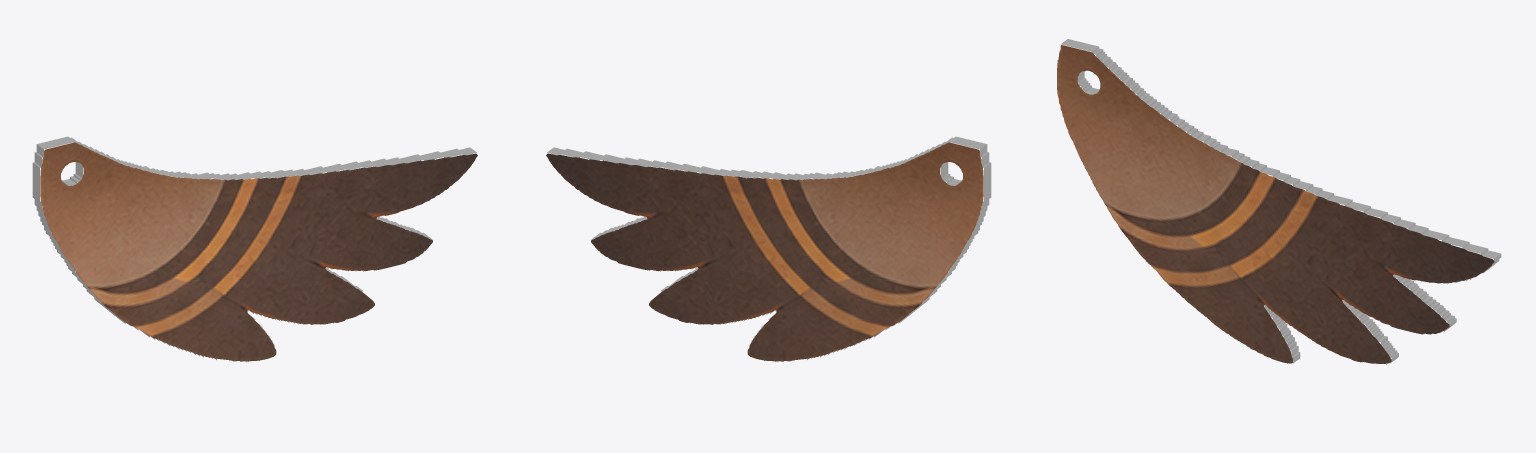
Rendered from TipFanRight.glb.
The picture shows the model from 3 angles, left to right: view 1: azimuth 30°, elevation 25°; view 2: azimuth 150°, elevation 25°; view 3: azimuth 330°, elevation 25°; orthographic projection.
Parts seen in each view (by area): view 1: PaperVolume; view 2: PaperVolume; view 3: PaperVolume.
Boxes of the visible parts, <box> form: PaperVolume: <box>32,136,477,362</box>; PaperVolume: <box>546,136,991,362</box>; PaperVolume: <box>1057,39,1501,364</box>.
Bounding box in the file's own units: 2.99 × 1.82 × 0.08.
Materials: 3 (2 with a texture image).
